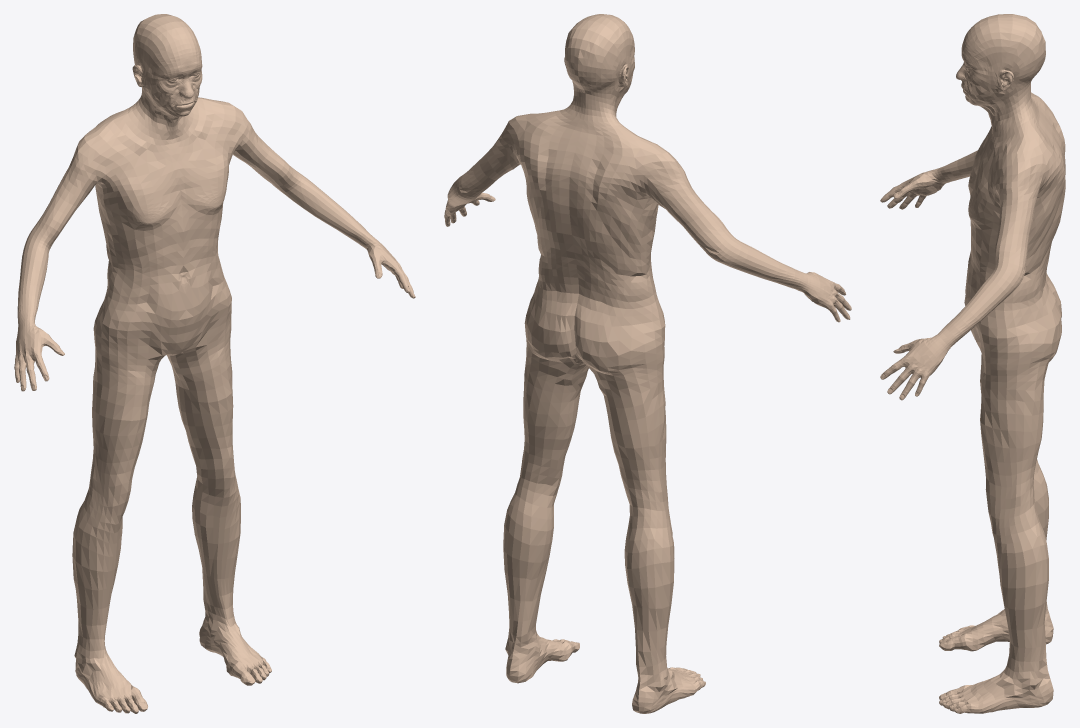
File: male-elder-lean-medium.glb
3 views of the same model, side by side, from view 1: azimuth 30°, elevation 25°; view 2: azimuth 150°, elevation 25°; view 3: azimuth 270°, elevation 25° (orthographic).
Parts seen in each view (by area): view 1: world; view 2: world; view 3: world.
Boxes of the visible parts, x1,y1,x2,y2 form: world: (14,14,415,713); world: (444,14,851,713); world: (880,14,1065,713).
Size of the model in its own units: 1.2 by 1.92 by 0.4906.
